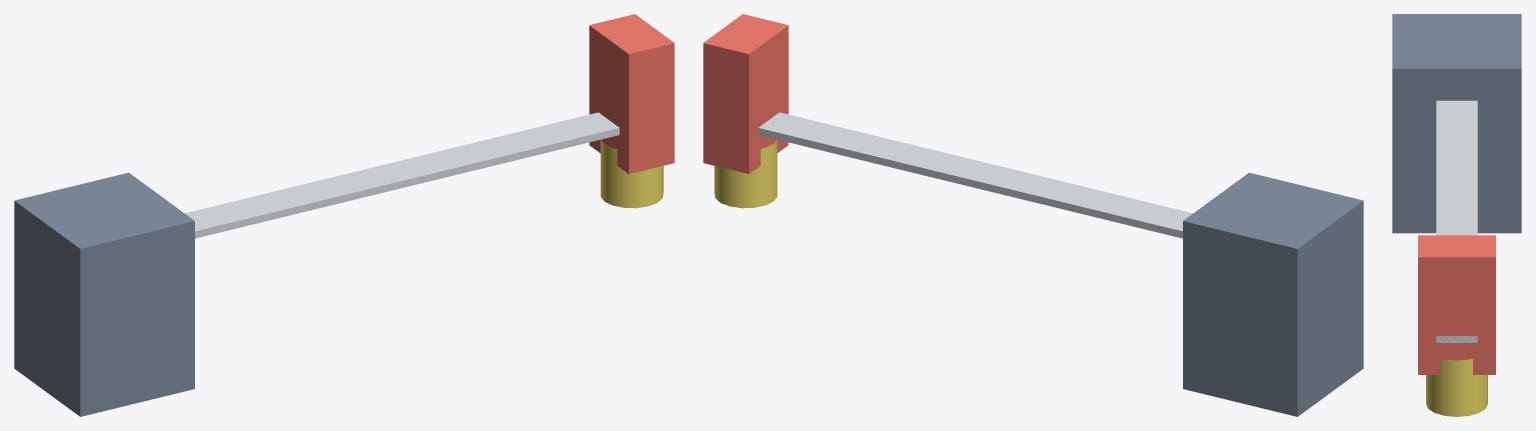
File: cantilever_vibration_frequency_period.glb
3 views of the same model, side by side, from view 1: azimuth 30°, elevation 25°; view 2: azimuth 150°, elevation 25°; view 3: azimuth 270°, elevation 25° (orthographic). The views are drawn at different scales.
Visible parts, largest first — view 1: RigidGClampBenchMountBase, UniformFlexibleSteelCantileverBlade, OpticalVibrationSensorGate, DeadWeightLoadingPanAtFreeEnd; view 2: RigidGClampBenchMountBase, UniformFlexibleSteelCantileverBlade, OpticalVibrationSensorGate, DeadWeightLoadingPanAtFreeEnd; view 3: RigidGClampBenchMountBase, OpticalVibrationSensorGate, UniformFlexibleSteelCantileverBlade, DeadWeightLoadingPanAtFreeEnd.
Boxes of the visible parts, x1=… form: RigidGClampBenchMountBase: x1=14, y1=172, x2=194, y2=416; UniformFlexibleSteelCantileverBlade: x1=185, y1=112, x2=619, y2=238; OpticalVibrationSensorGate: x1=589, y1=14, x2=674, y2=173; DeadWeightLoadingPanAtFreeEnd: x1=600, y1=140, x2=663, y2=208; RigidGClampBenchMountBase: x1=1183, y1=172, x2=1363, y2=416; UniformFlexibleSteelCantileverBlade: x1=758, y1=112, x2=1192, y2=238; OpticalVibrationSensorGate: x1=703, y1=14, x2=788, y2=173; DeadWeightLoadingPanAtFreeEnd: x1=714, y1=140, x2=777, y2=208; RigidGClampBenchMountBase: x1=1392, y1=14, x2=1521, y2=233; OpticalVibrationSensorGate: x1=1418, y1=235, x2=1495, y2=374; UniformFlexibleSteelCantileverBlade: x1=1436, y1=100, x2=1477, y2=342; DeadWeightLoadingPanAtFreeEnd: x1=1426, y1=358, x2=1487, y2=416.
Size of the model in its own units: 1.33 by 0.45 by 0.25.
